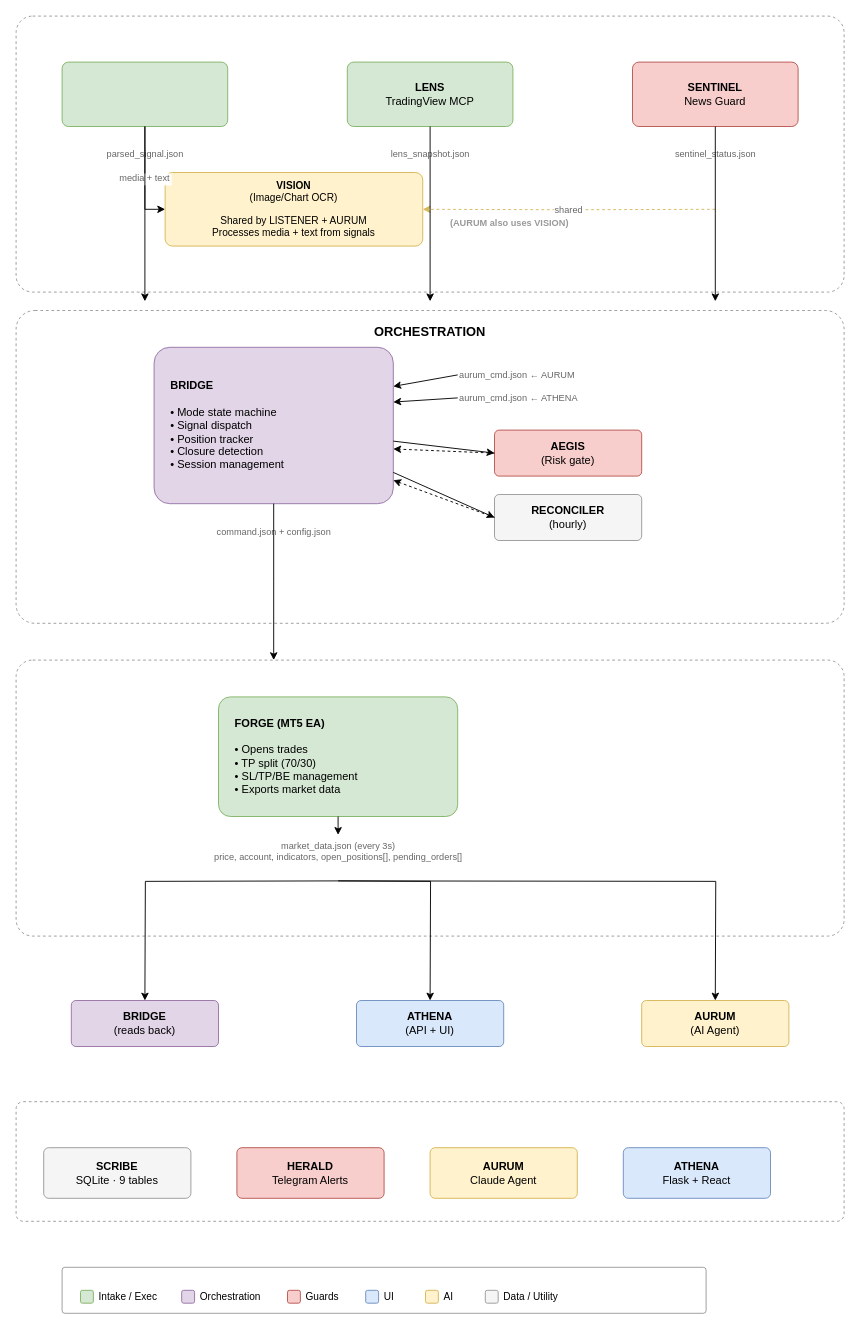
This 860x1329 diagram has some shape labels left out. The box of each missing label's shape, as (x1, y1, x2, y2) in pixels:
DATA + NOTIFICATIONS + AI: (15, 1101, 844, 1221)
EXECUTION: (15, 659, 844, 936)
Legend: (61, 1266, 706, 1313)
LISTENER Telegram + Claude Parser: (61, 61, 228, 126)
SIGNAL INTAKE + PROTECTION: (15, 15, 844, 292)
